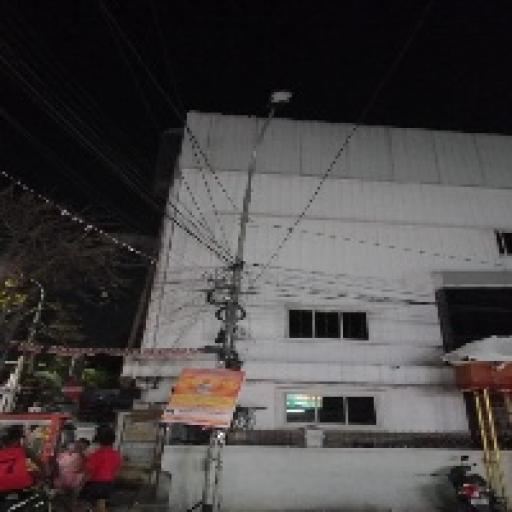Not Working: (267, 86, 297, 108)
